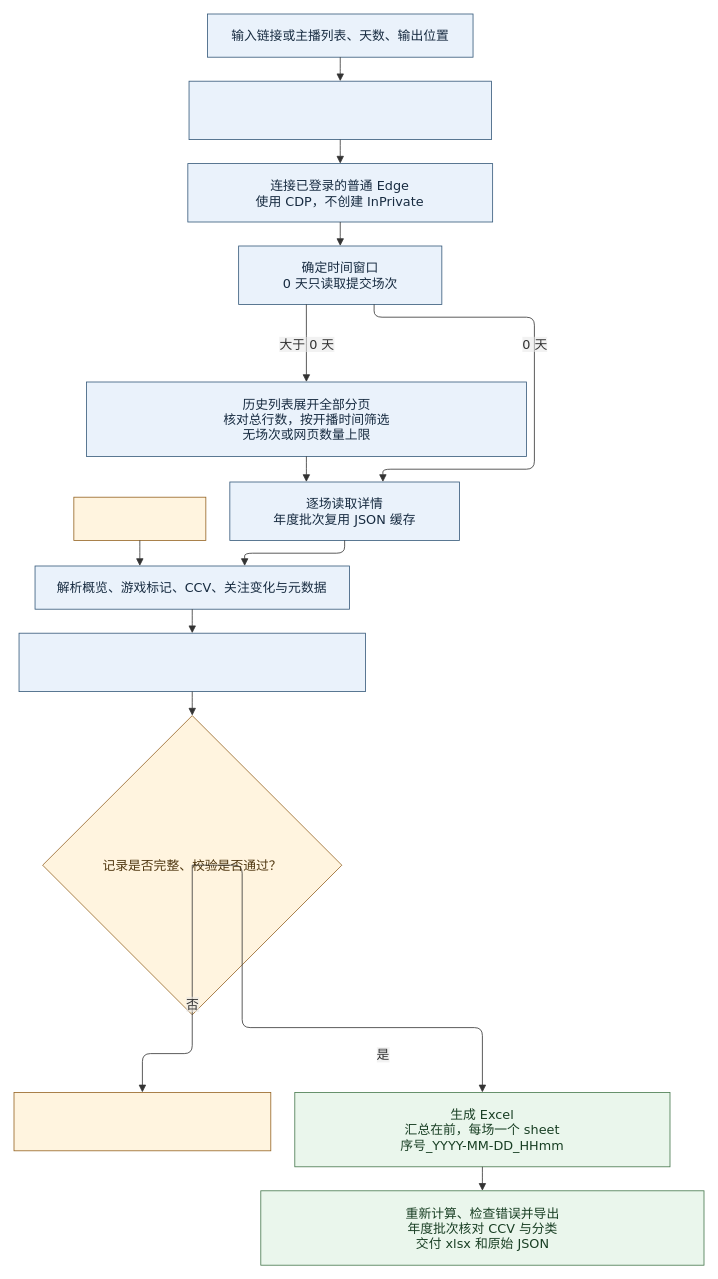
The diagram is 718 pixels wide and 1279 high, and some of its shapes have lost their labels. Each missing label, with the box of its shape:
年度批次补采失败页 正常页面无图表则保留概览并标注缺失: (18, 632, 365, 692)
报告失败 URL 年度批次保留缓存，重跑续采: (13, 1092, 271, 1151)
离线单场 JSON: (73, 496, 206, 540)
选择入口 单场链接 run.ps1 / 年度批次 run-year.ps1: (188, 80, 491, 140)
